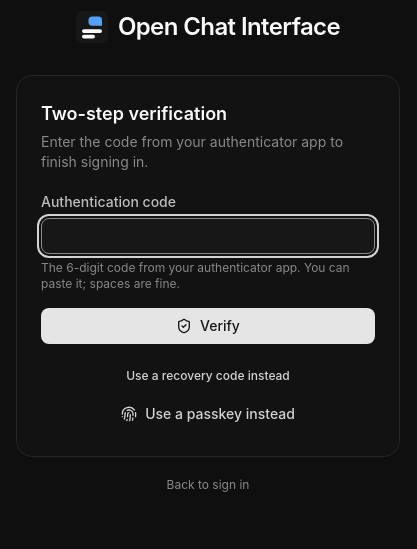
Test case: a passkey instead › says calmly that it was cancelled, and leaves the code field to use
Click the button "Use a passkey instead": [208, 414] box [105,396,311,432]
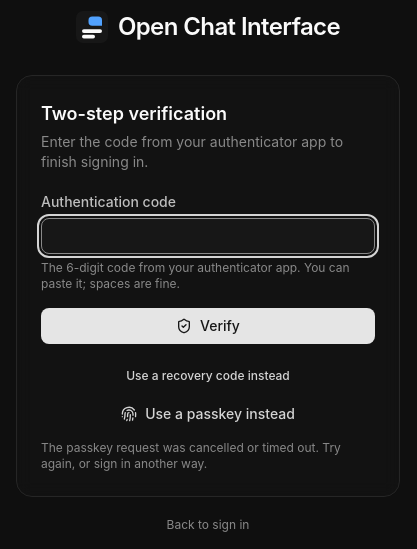
Expected: the field labelled "Authentication code" is shown, [41,218,375,254]
Result: the text "The passkey request was cancelled or timed out." is shown at [41,440,341,471]
